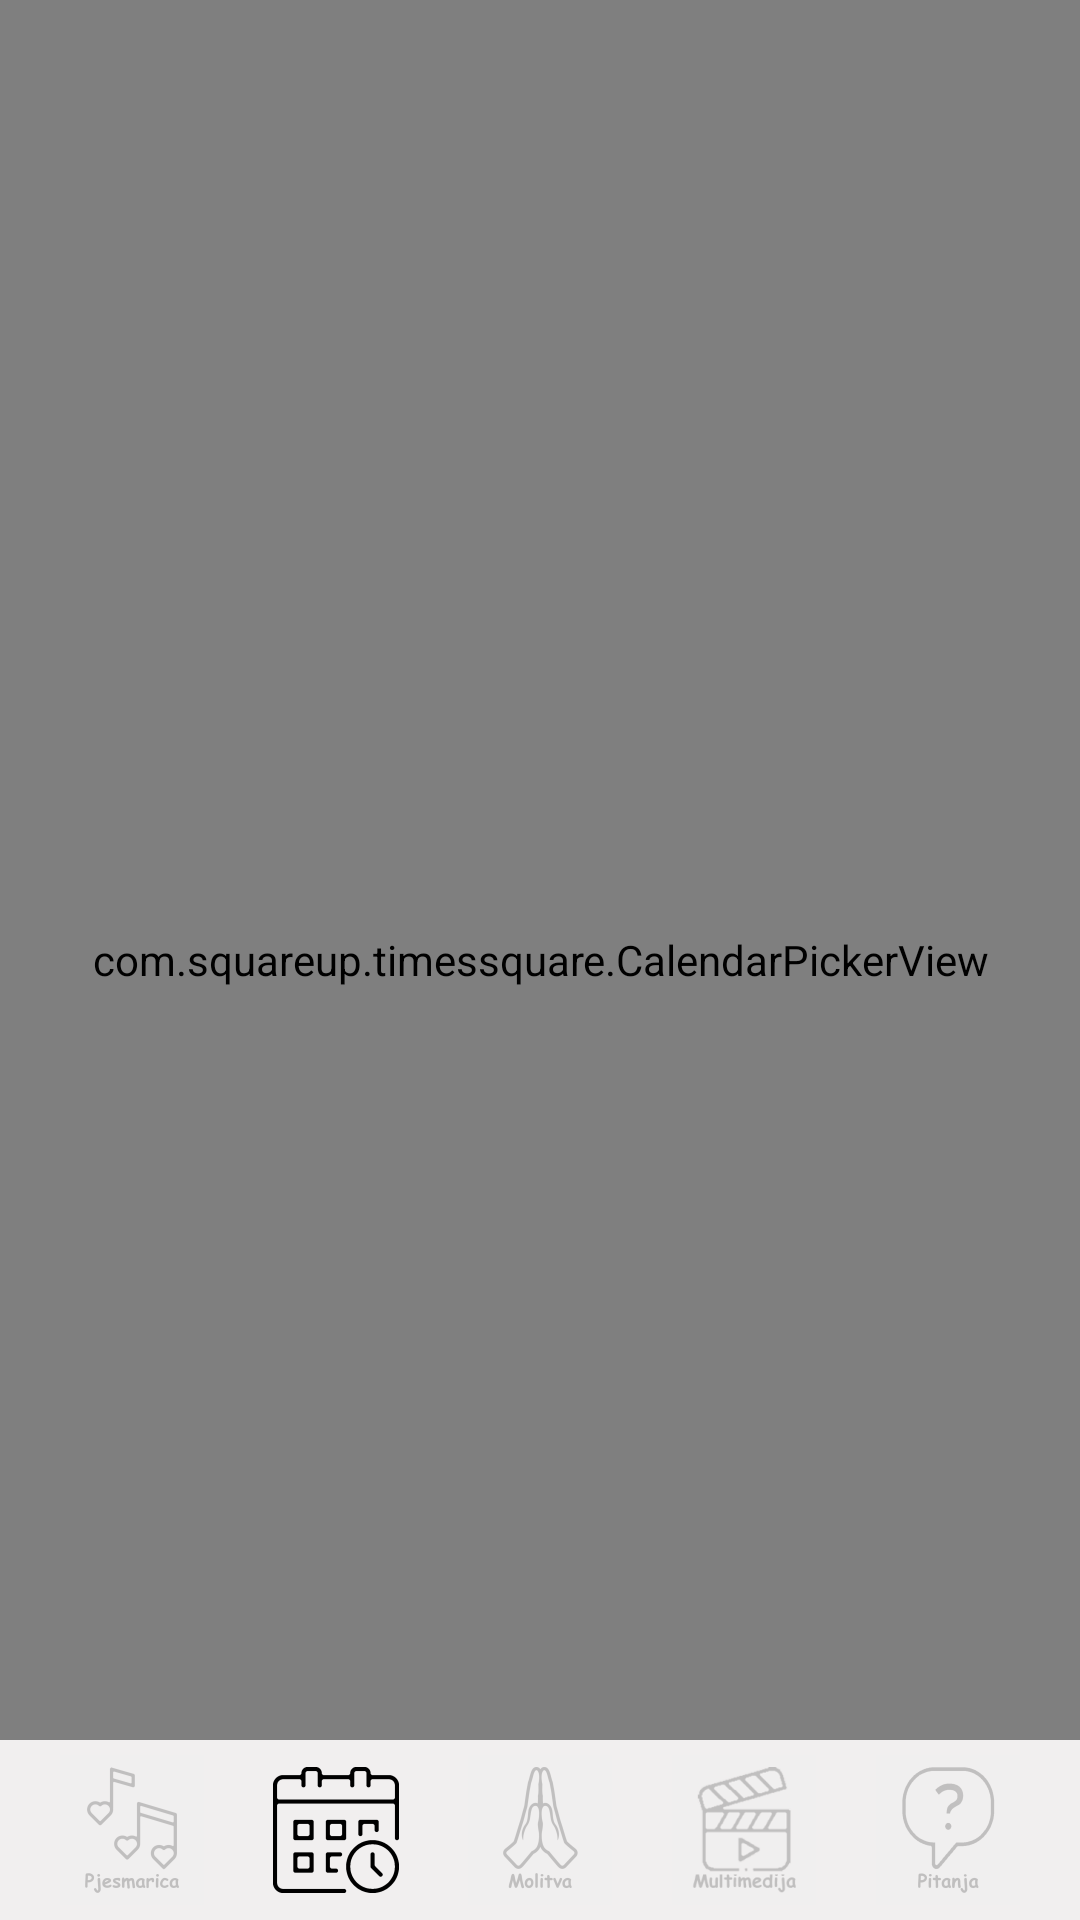

Where icons sit on this 1080w x 1920h app screen, as (x1, y1, x2, y2):
kalendar mali: (273, 1767, 399, 1893)
